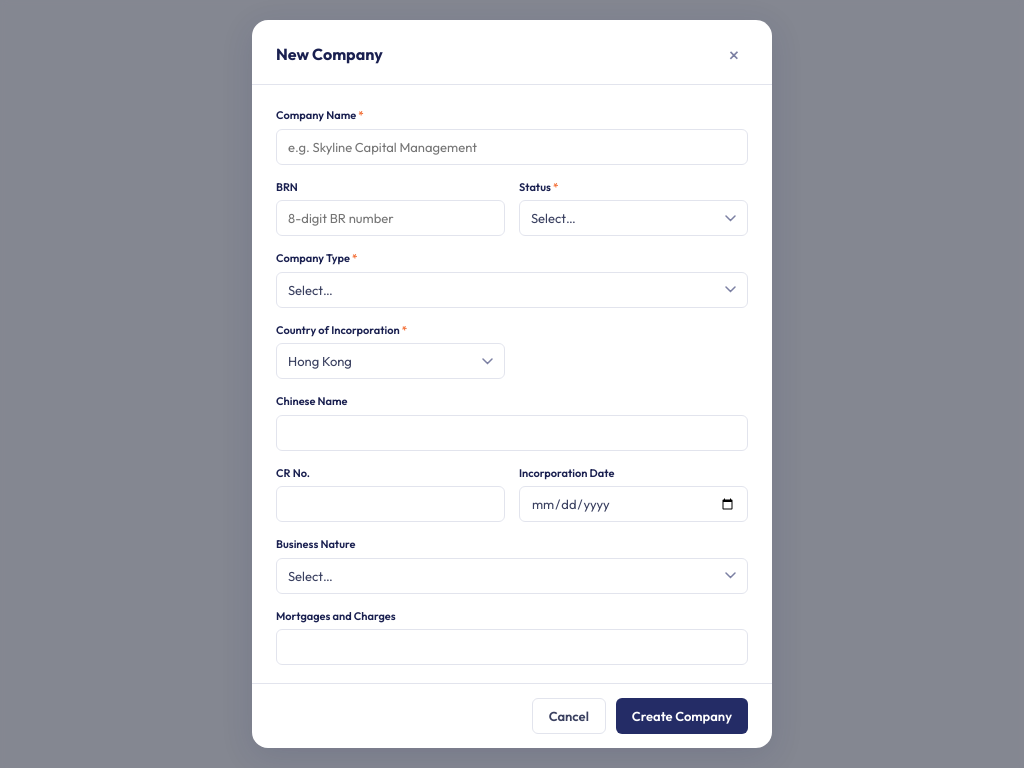
Test case: AddCompanyModal › blocks submit and shows errors when required fields are missing
What coordinates should you click on to do the following:
click the button "Create Company"
I would click on:
 (682, 716)
Its box is [616,698,748,734].
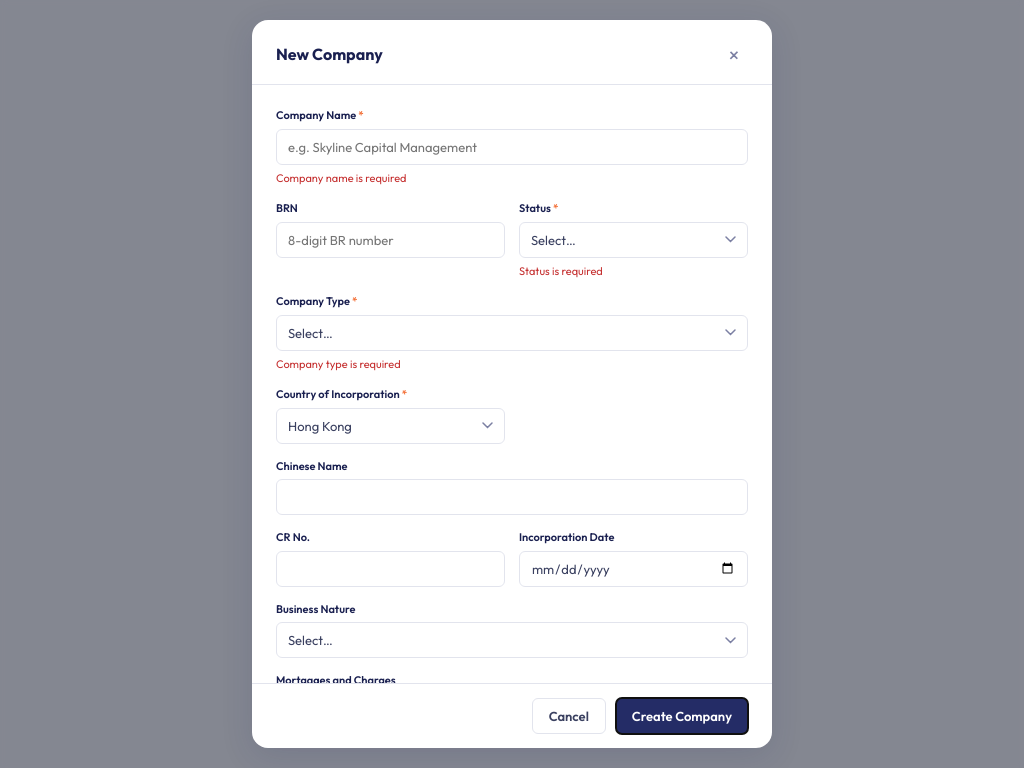
Expected: the text "Company name is required" is shown, [276,170,406,184]
Expected: the text "Status is required" is shown, [519,264,603,278]
Expected: the text "Company type is required" is shown, [276,356,401,370]
